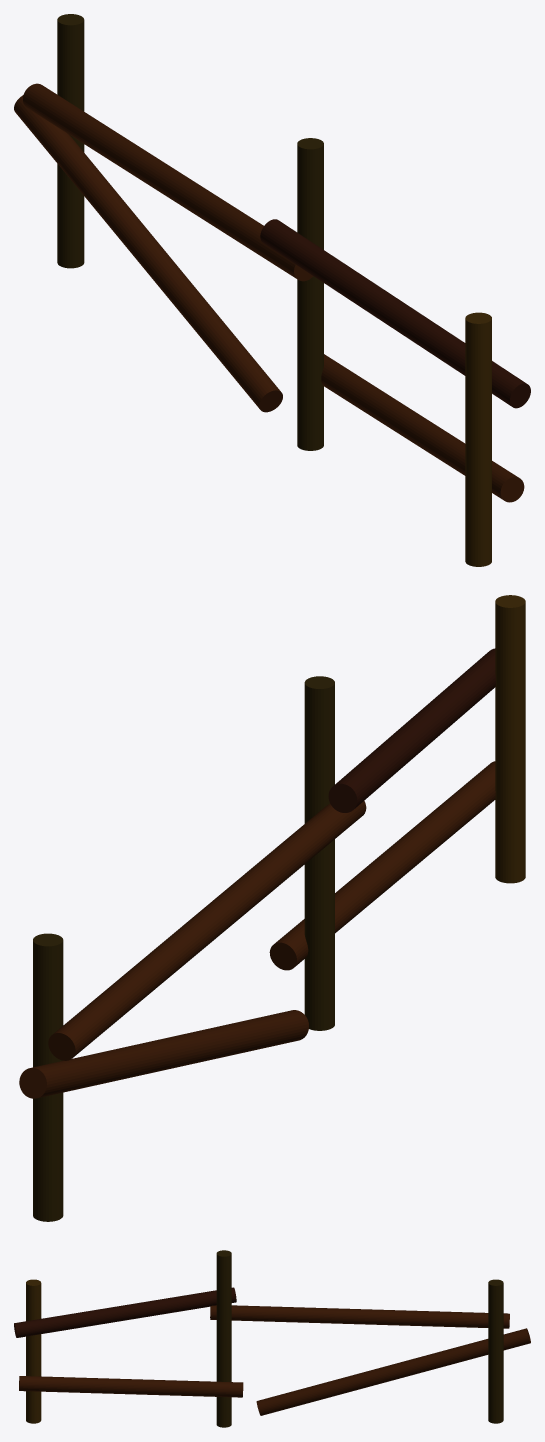
Rendered from fence.1.fbx.
3 renders of one model, top to bottom at view 1: azimuth 30°, elevation 25°; view 2: azimuth 150°, elevation 25°; view 3: azimuth 270°, elevation 25°, orthographic. The views are drawn at different scales.
Visible parts, largest first — view 1: 円柱.006, 円柱.005, 円柱.002, 円柱.001, 円柱, 円柱.003, 円柱.004; view 2: 円柱.005, 円柱.001, 円柱.006, 円柱, 円柱.003, 円柱.004, 円柱.002; view 3: 円柱.006, 円柱.005, 円柱.003, 円柱.002, 円柱.001, 円柱.004, 円柱.
Boxes of the visible parts, left/top/right/bottom form: 円柱.006: left=14, top=95, right=282, bottom=412; 円柱.005: left=23, top=83, right=313, bottom=281; 円柱.002: left=260, top=219, right=530, bottom=408; 円柱.001: left=297, top=138, right=323, bottom=450; 円柱: left=465, top=312, right=491, bottom=566; 円柱.003: left=321, top=354, right=524, bottom=502; 円柱.004: left=57, top=14, right=84, bottom=268; 円柱.005: left=48, top=800, right=366, bottom=1060; 円柱.001: left=304, top=676, right=334, bottom=1030; 円柱.006: left=19, top=1010, right=308, bottom=1098; 円柱: left=495, top=595, right=525, bottom=883; 円柱.003: left=269, top=761, right=495, bottom=970; 円柱.004: left=33, top=933, right=63, bottom=1221; 円柱.002: left=328, top=648, right=495, bottom=812; 円柱.006: left=256, top=1328, right=530, bottom=1415; 円柱.005: left=210, top=1305, right=509, bottom=1328; 円柱.003: left=19, top=1376, right=243, bottom=1397; 円柱.002: left=14, top=1287, right=236, bottom=1337; 円柱.001: left=216, top=1250, right=231, bottom=1427; 円柱.004: left=488, top=1279, right=503, bottom=1423; 円柱: left=26, top=1279, right=41, bottom=1423.
Bounding box in the file's own units: 204 × 744 × 2041.
